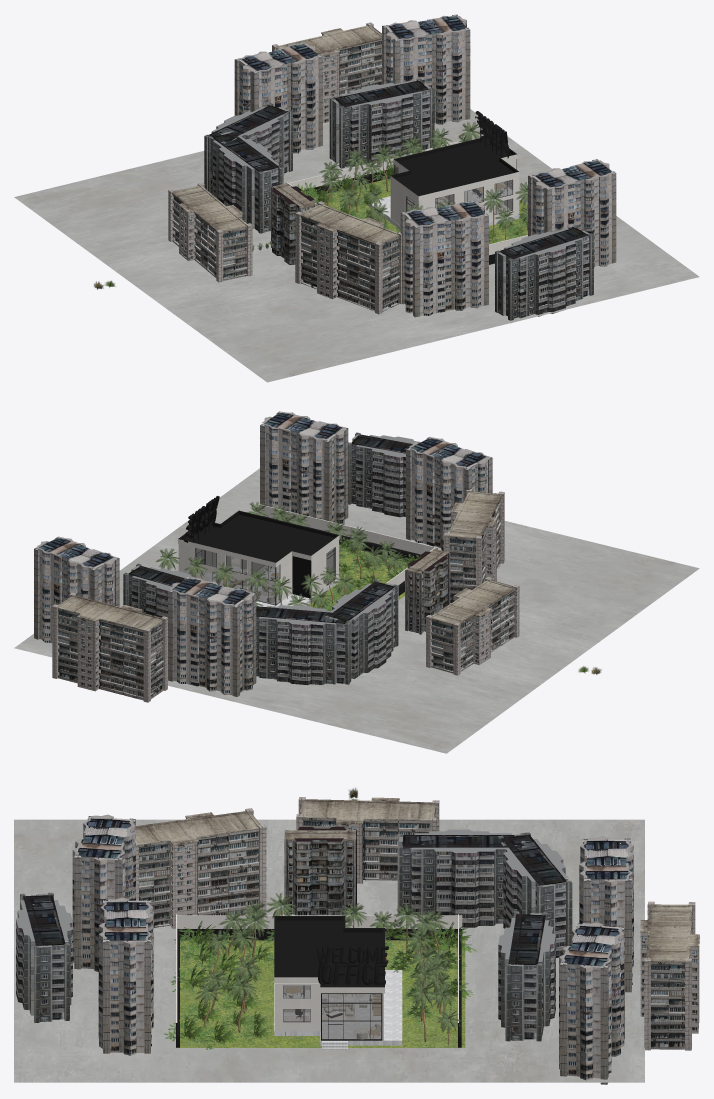
File: isle_office.glb
3 views of the same model, one above another, from view 1: azimuth 30°, elevation 25°; view 2: azimuth 150°, elevation 25°; view 3: azimuth 270°, elevation 25° (orthographic). The views are drawn at different scales.
Parts seen in each view (by area): view 1: office; view 2: office; view 3: office.
Part boxes in pixels (x1,y1,x2,y2): office: (14,14,699,382); office: (14,411,699,753); office: (14,787,699,1084).
Bounding box in the file's own units: 61.72 × 13.96 × 62.71.
26 materials, 24 textured.
